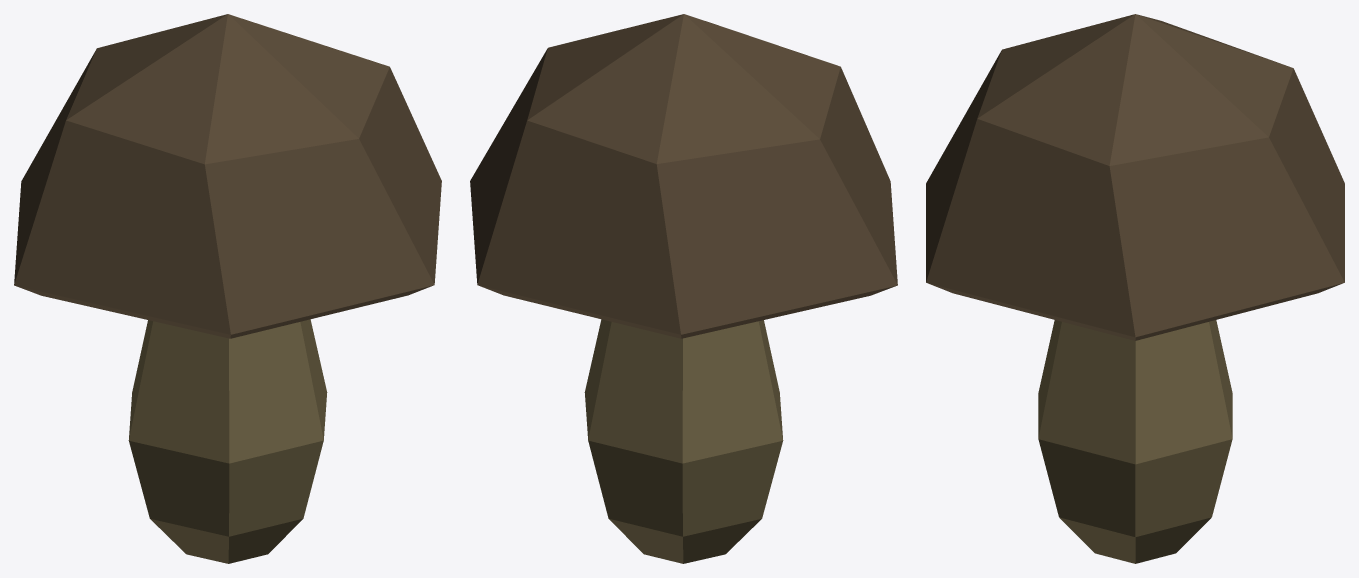
File: Mushroom-B02.fbx
3 renders of one model, left to right at view 1: azimuth 30°, elevation 25°; view 2: azimuth 150°, elevation 25°; view 3: azimuth 270°, elevation 25°, orthographic.
Visible parts, largest first — view 1: Mushroom-B02; view 2: Mushroom-B02; view 3: Mushroom-B02.
Part boxes in pixels (box(x1,y1,x2,y2)): Mushroom-B02: box(14, 14, 441, 563); Mushroom-B02: box(470, 14, 897, 563); Mushroom-B02: box(926, 14, 1344, 563).
Bounding box in the file's own units: 71.62 × 84.8 × 60.77.
